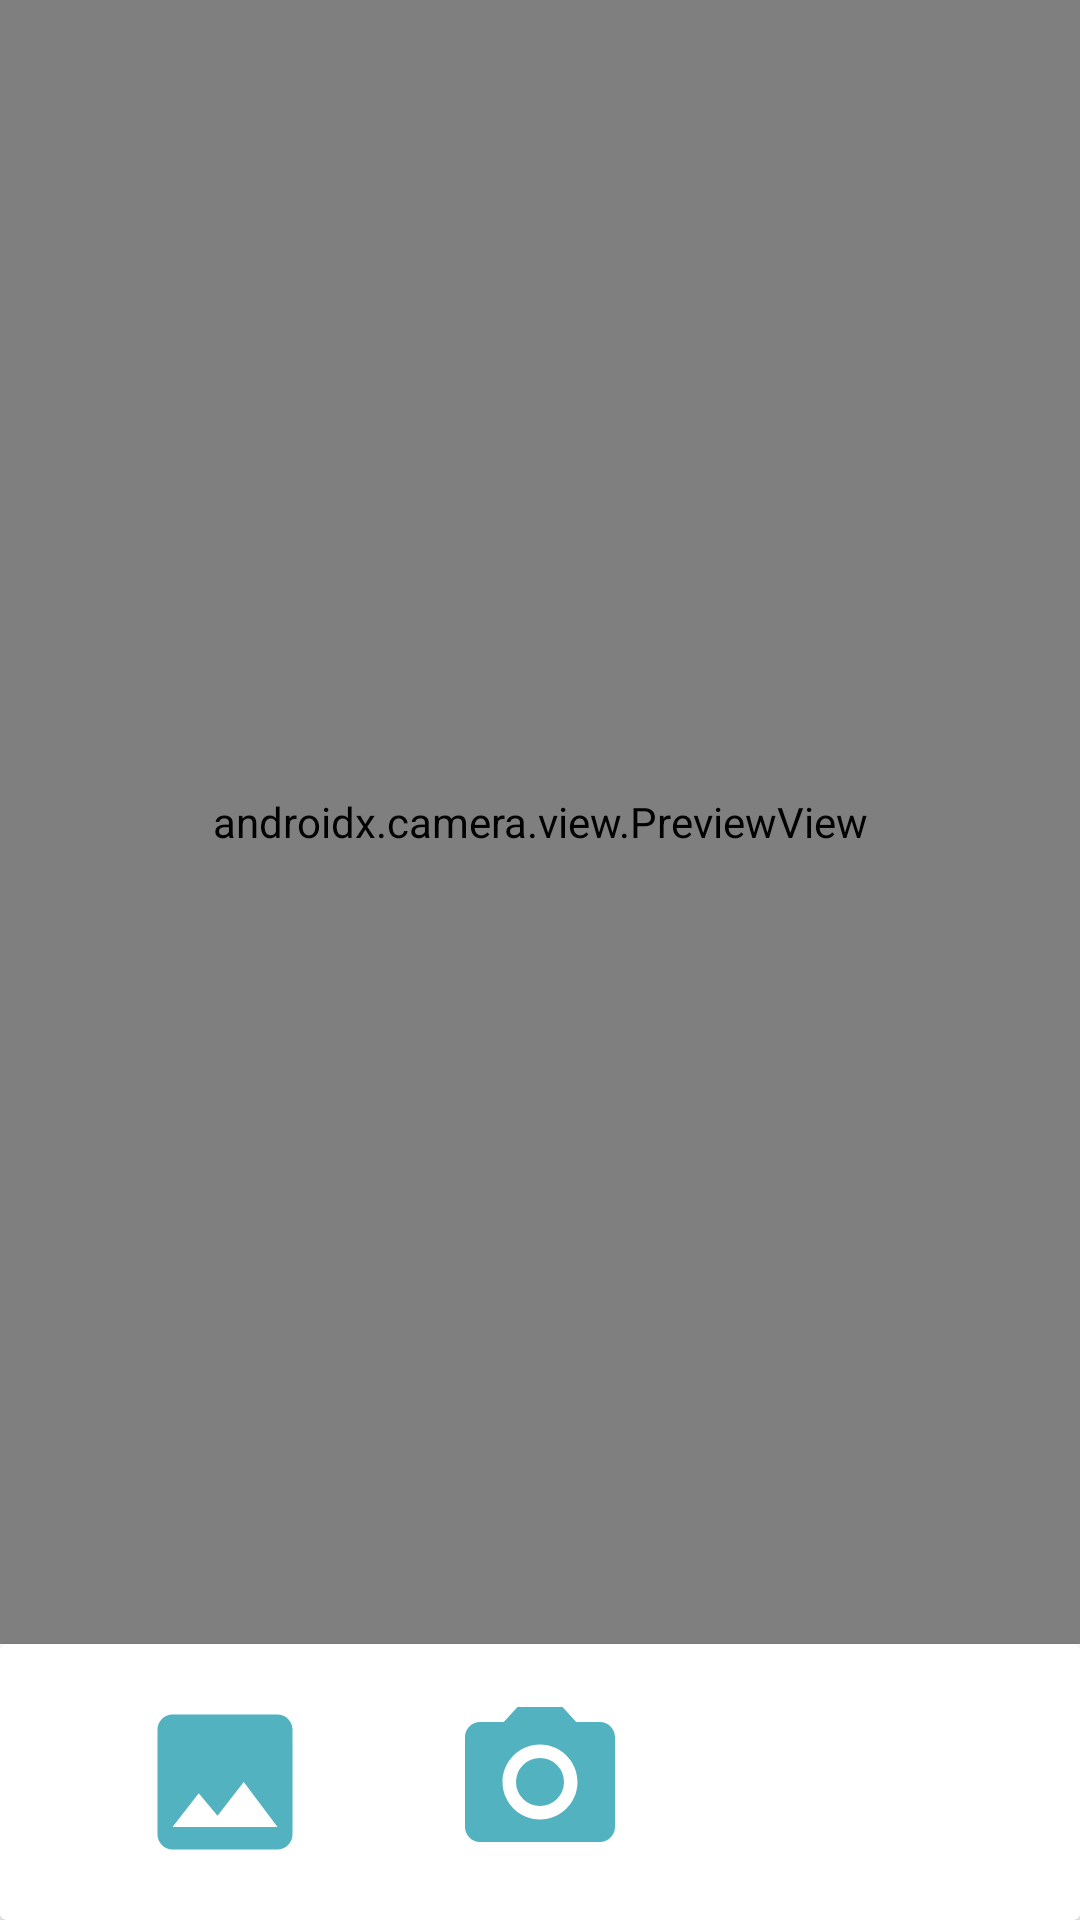

Icons on this 1080w x 1920h Android screen, each with its box as (x1, y1, x2, y2):
capture: (465, 1707, 615, 1842)
gallery: (157, 1714, 293, 1850)
